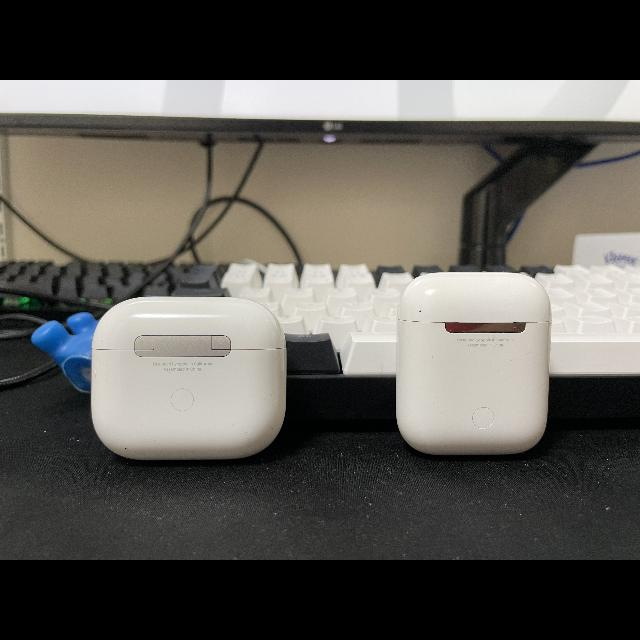airpod2: (392, 266, 558, 457)
airpod3: (86, 291, 290, 464)
